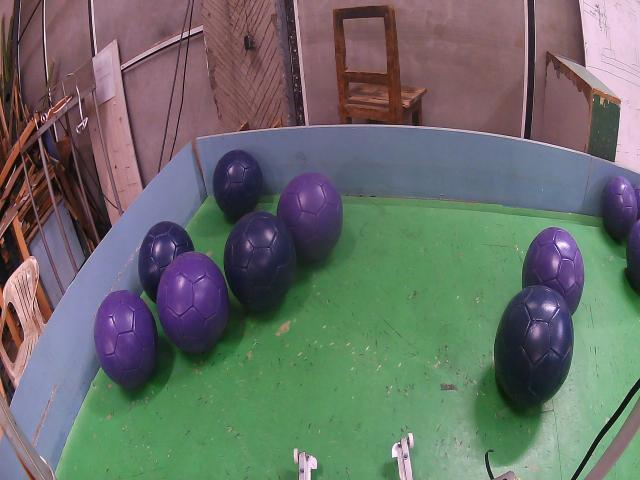jambhalya: (156, 252, 229, 353), (94, 290, 158, 388), (276, 173, 342, 262), (522, 227, 585, 315), (602, 177, 638, 242)
kaalyya: (494, 285, 574, 407), (224, 210, 296, 310), (139, 222, 194, 302), (212, 150, 262, 220), (626, 220, 640, 290)
